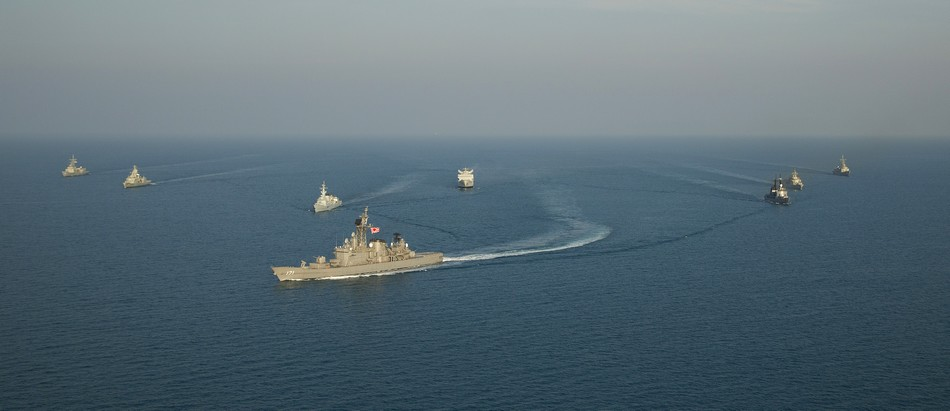warship: (271, 204, 439, 284), (760, 172, 794, 212), (306, 182, 340, 216), (119, 166, 153, 193), (60, 150, 89, 178), (455, 166, 475, 191), (833, 154, 853, 179), (791, 165, 804, 192)
